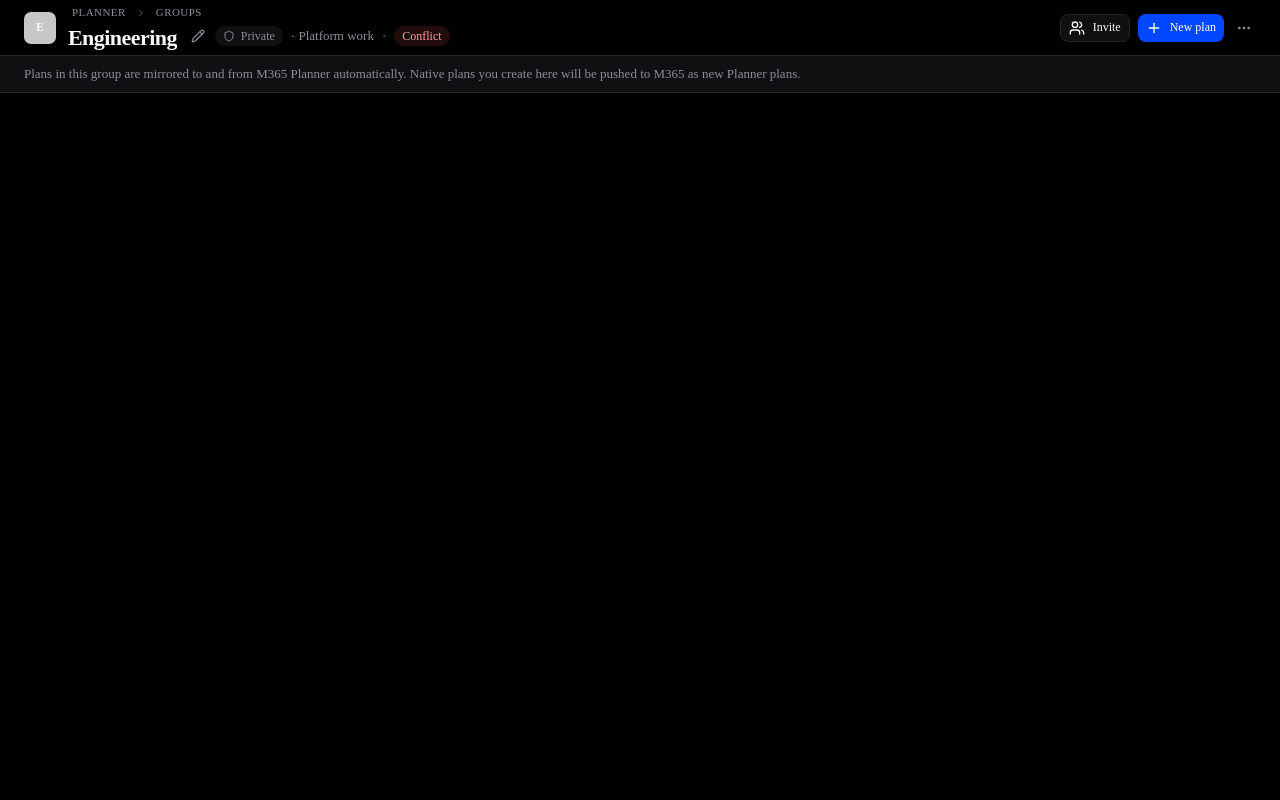
Test case: GroupDetailHeader › conflict state badge opens ResolveConflictDialog
The image size is (1280, 800).
Click the button "Conflict" at [422, 36], box [394,26,450,46]
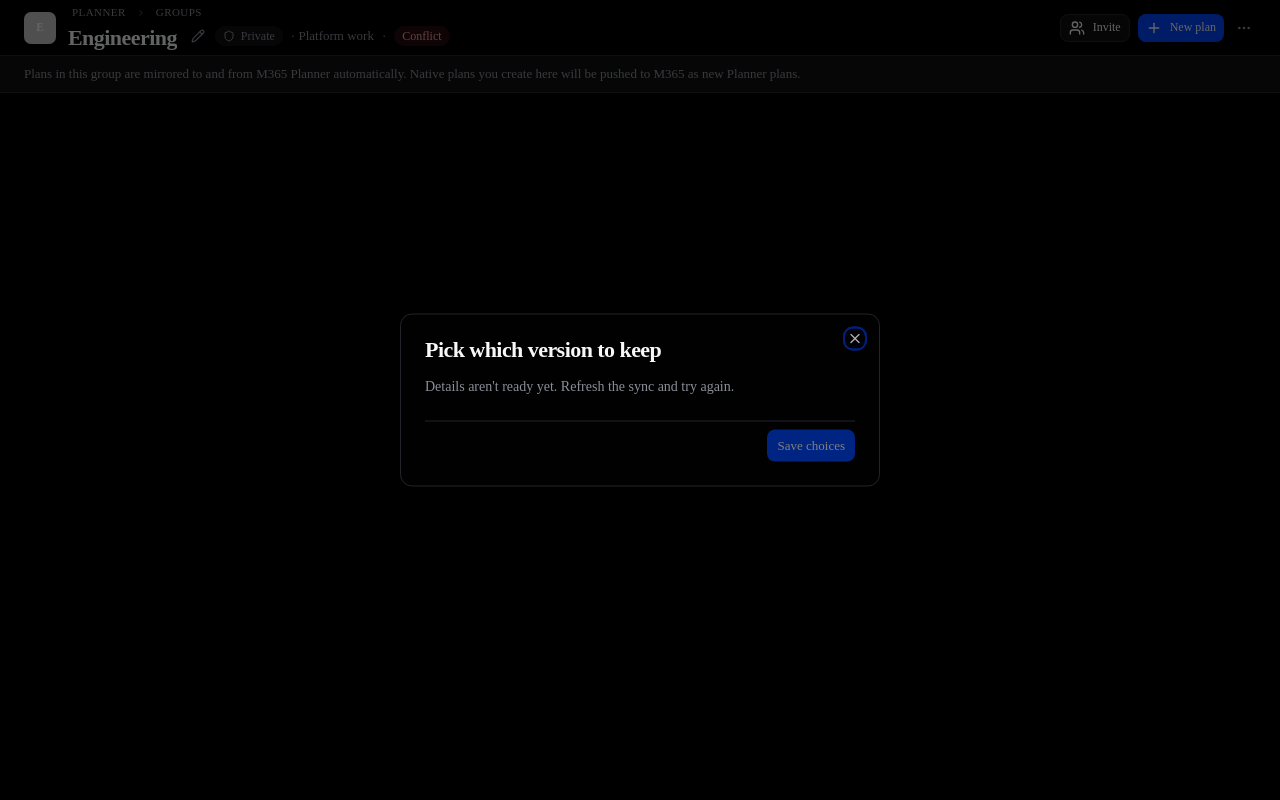
Now the heading "Pick which version to keep" is shown, box [425,336,661,362]
